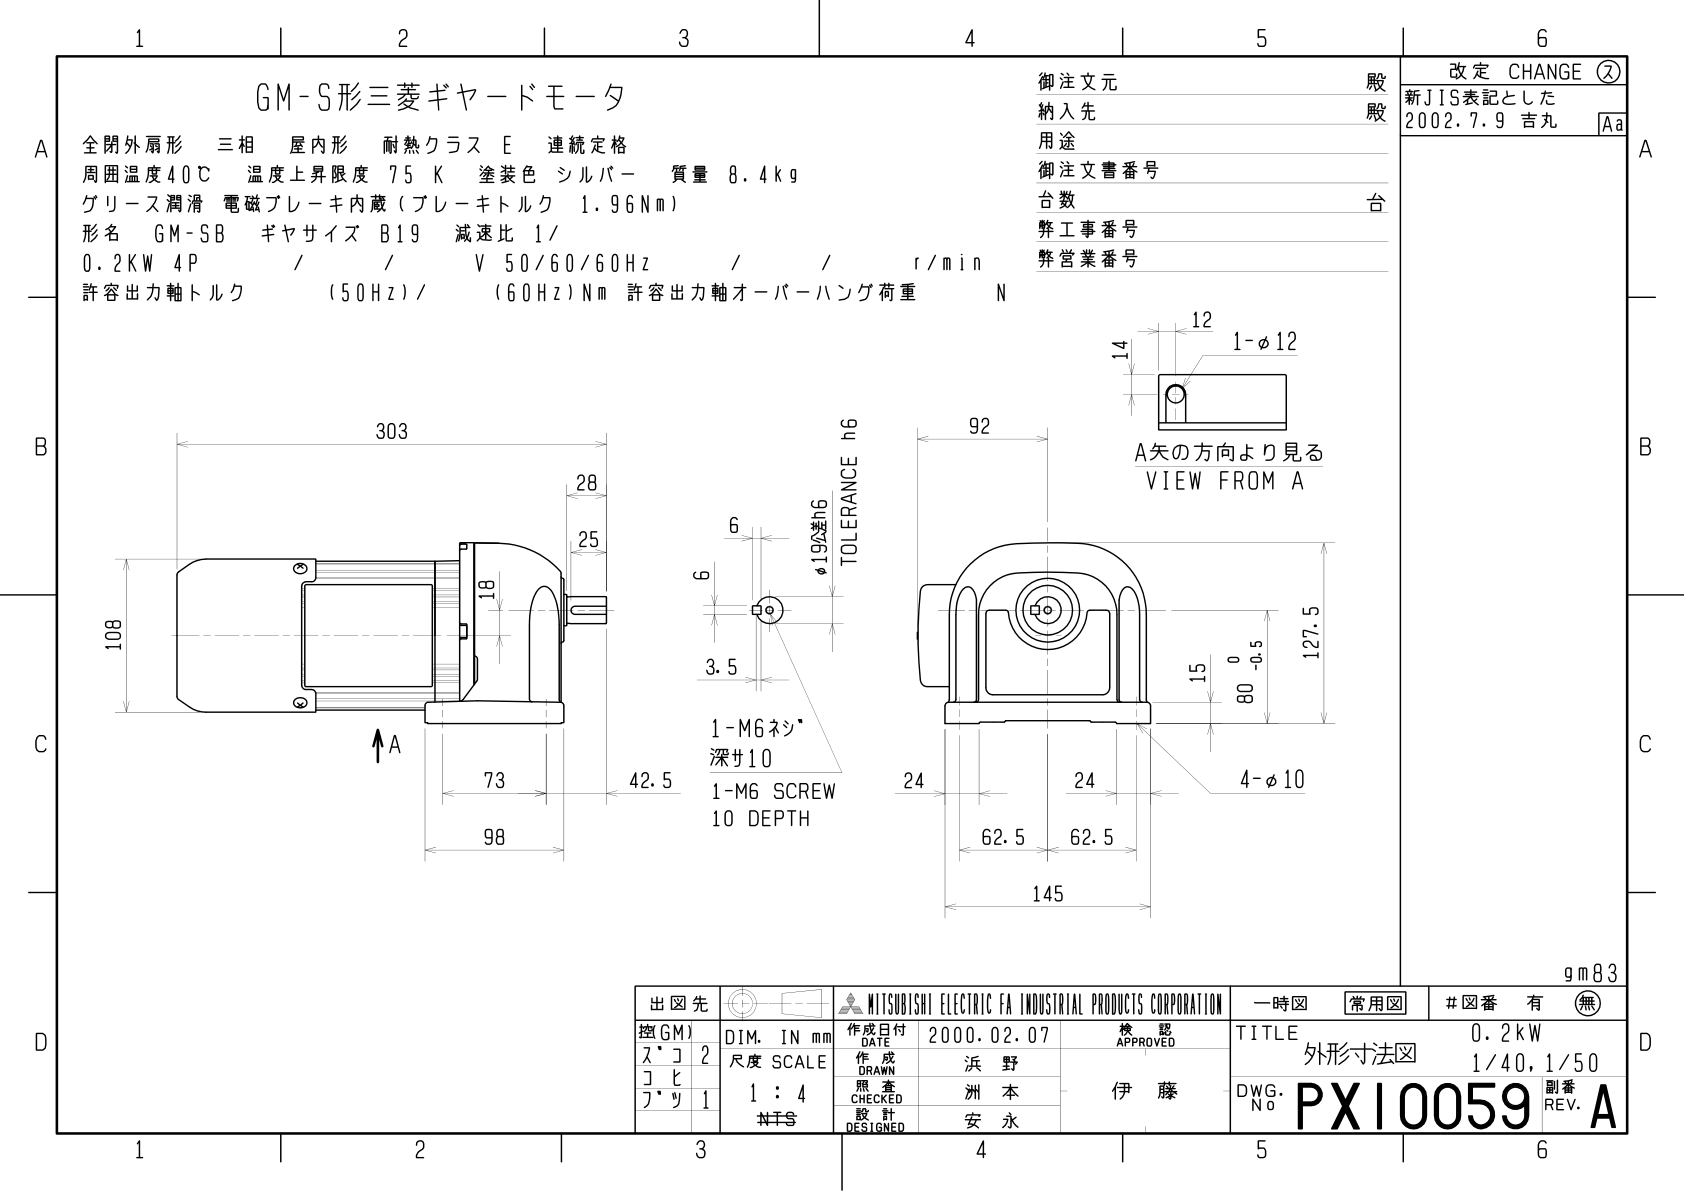GM_S_屋内＿三相_脚: (73, 300, 1379, 945)
